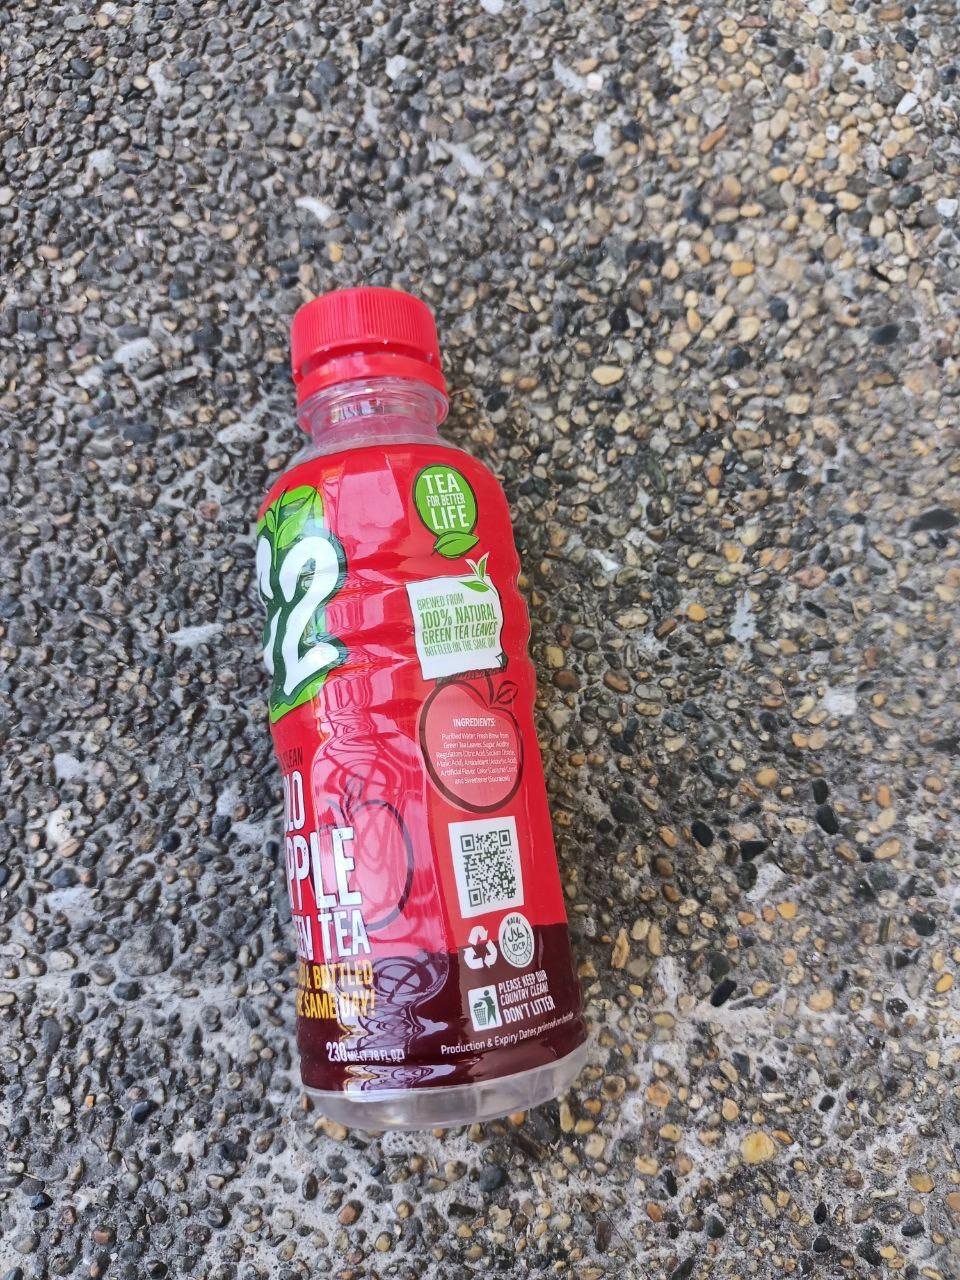plastic: (139, 250, 637, 1141)
